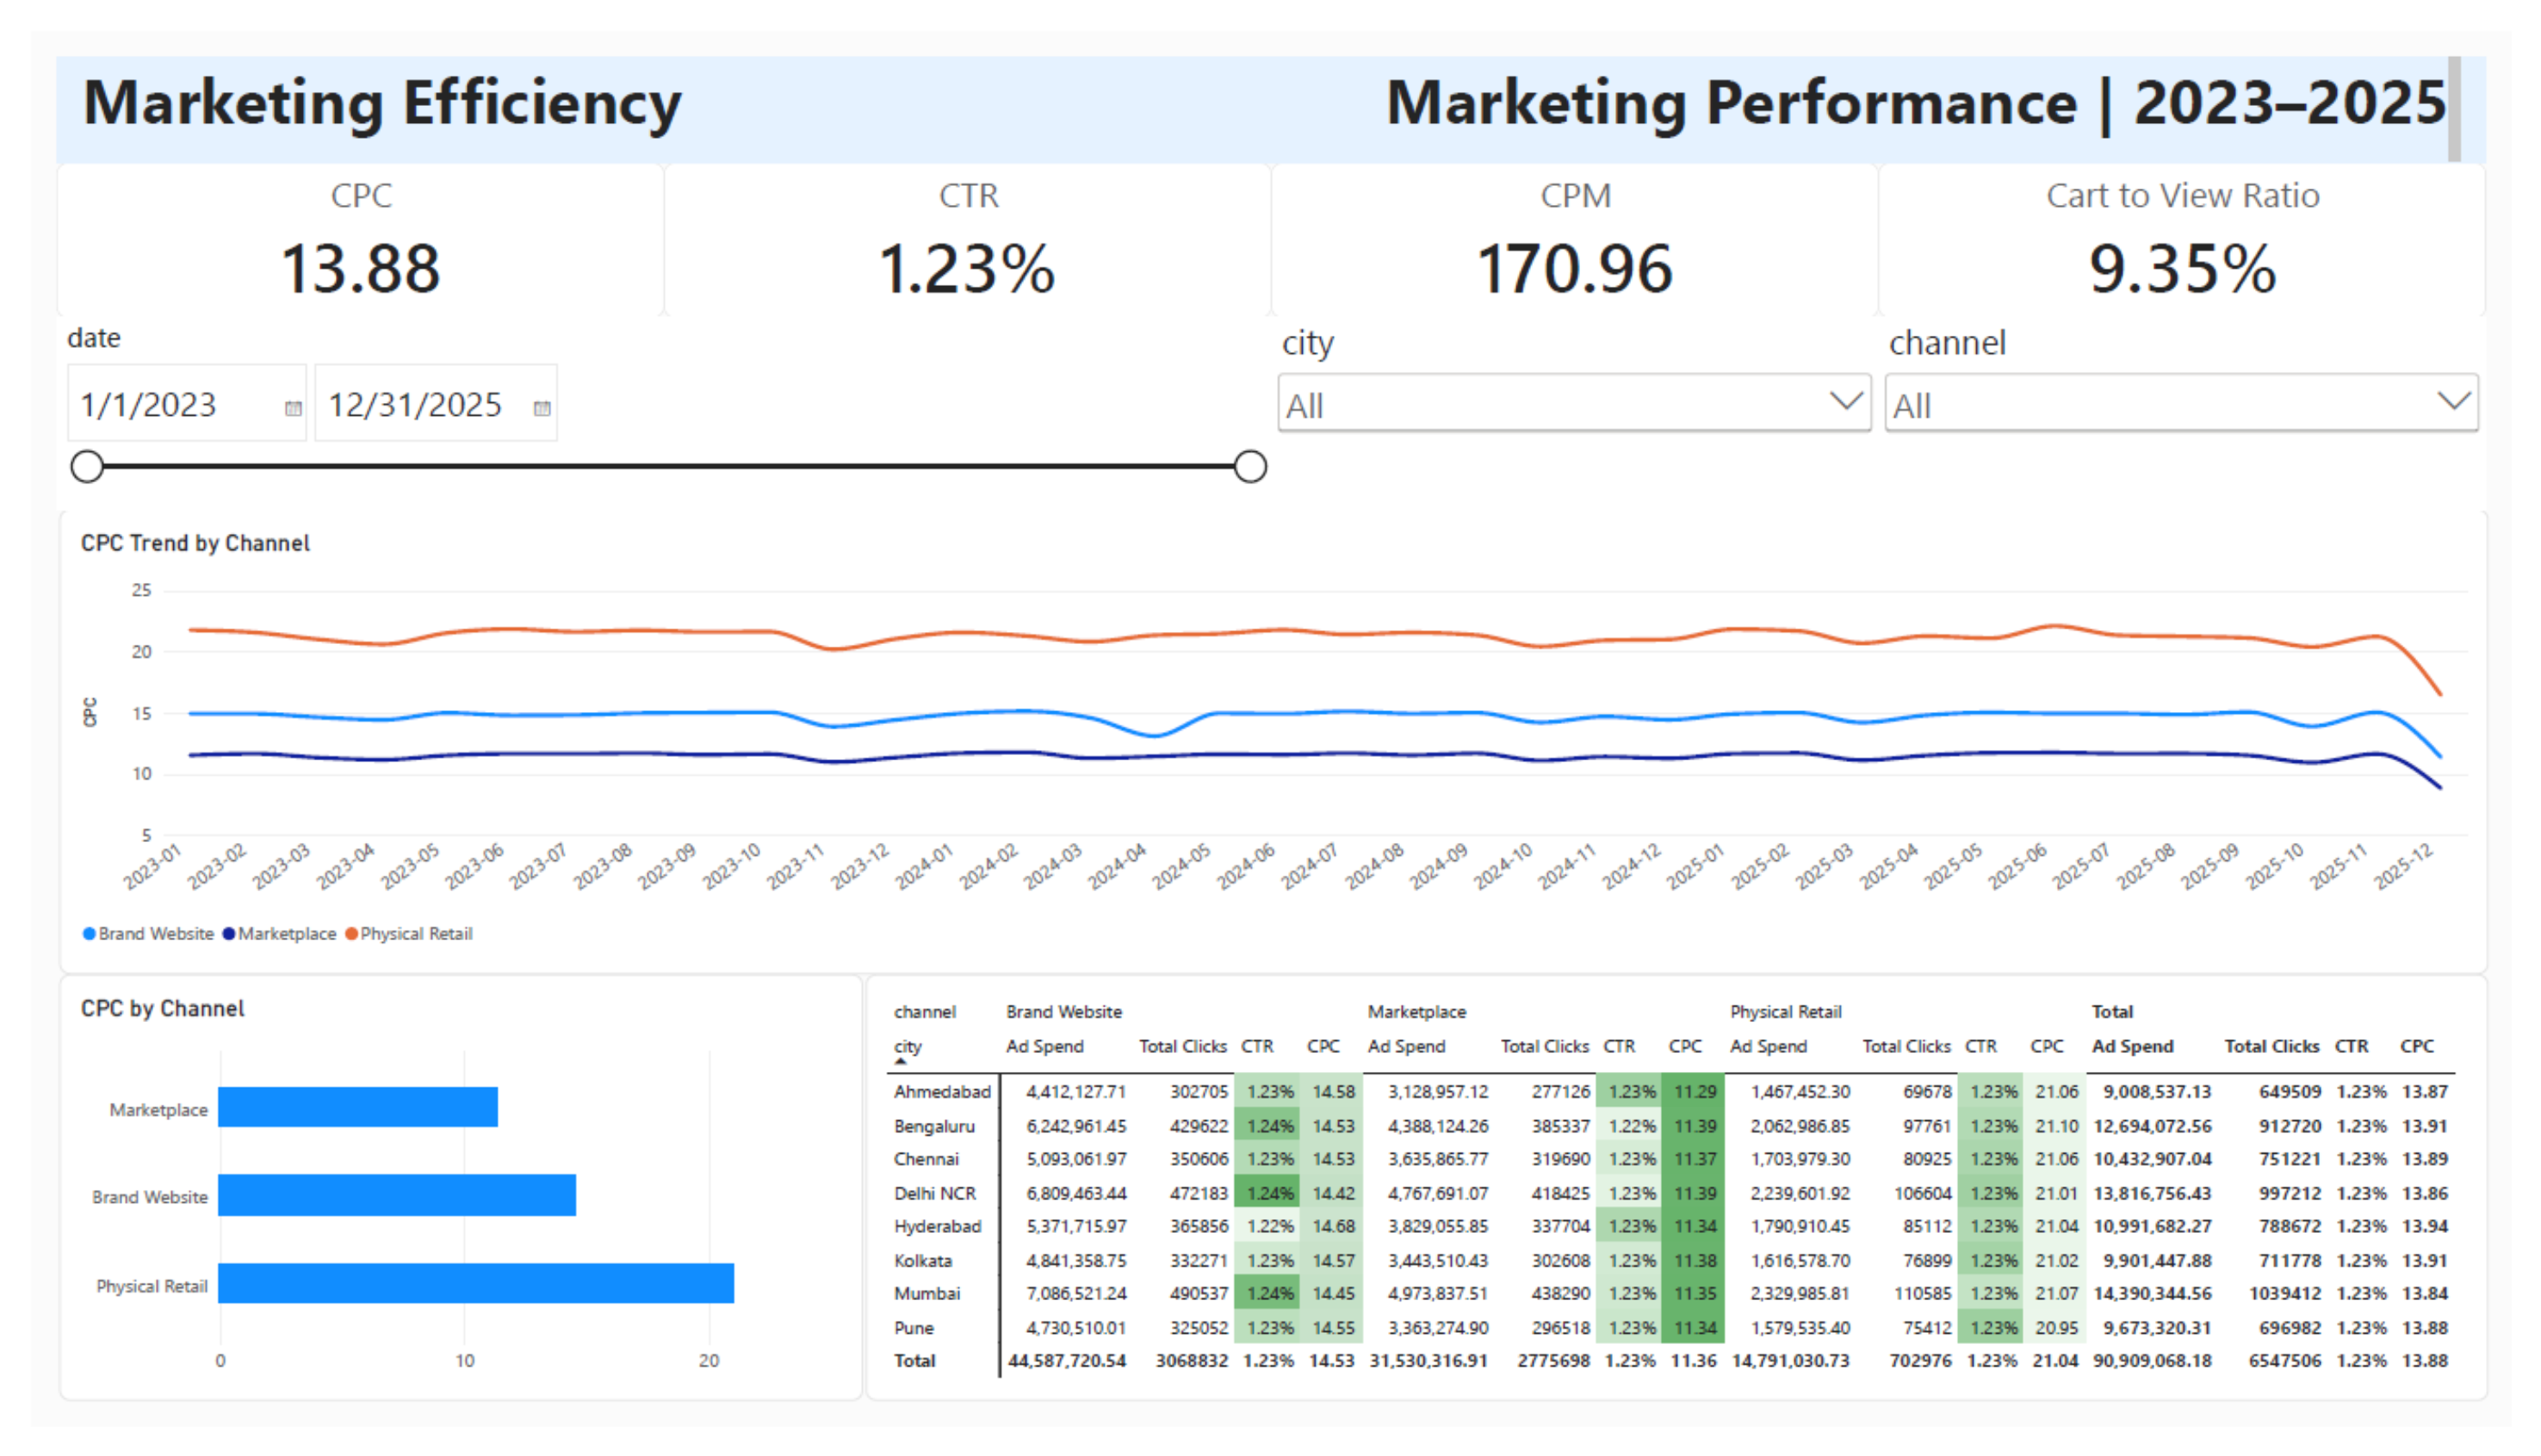

What the dashboard file says about the page in this screenshot:
{"tool":"powerbi","page":{"name":"Marketing Efficiency","canvas":[1920,1080],"ordinal":1},"visuals":[{"type":"cardVisual","fields":{"Data":["FactPerformance.CTR"]},"box":[490,102,470,120],"z":0},{"type":"cardVisual","fields":{"Data":["FactPerformance.CPC"]},"box":[20,102,470,120],"z":1000},{"type":"cardVisual","fields":{"Data":["FactPerformance.CPM"]},"box":[960,102,470,120],"z":2000},{"type":"cardVisual","fields":{"Data":["FactPerformance.Cart to View Ratio"]},"box":[1430,102,470,120],"z":3000},{"type":"pivotTable","fields":{"Columns":["DimChannel.channel"],"Rows":["DimCity.city"],"Values":["FactPerformance.Ad Spend","FactPerformance.Total Clicks","FactPerformance.CTR","FactPerformance.CPC"]},"box":[646,730,1256,330],"z":4000},{"type":"clusteredBarChart","title":"CPC by Channel","fields":{"Category":["DimChannel.channel"],"Y":["FactPerformance.CPC"]},"box":[22,730,622,330],"z":5000},{"type":"lineChart","title":"CPC Trend by Channel","fields":{"Category":["DimDate.YearMonth"],"Series":["DimChannel.channel"],"Y":["FactPerformance.CPC"]},"box":[22,370,1880,360],"z":6000},{"type":"slicer","fields":{"Values":["DimDate.date"]},"box":[20,222,940,148],"z":7000},{"type":"slicer","fields":{"Values":["DimCity.city"]},"box":[960,222,470,148],"z":8000},{"type":"slicer","fields":{"Values":["DimChannel.channel"]},"box":[1430,222,470,148],"z":9000},{"type":"textbox","box":[20,20,940,82],"z":10000},{"type":"textbox","box":[960,20,940,82],"z":11000}]}

Visuals, with their boxes in screenshot pixels (x1, y1, x2, y2), scaled from the page's 1920x1080 canvas onto the 2541x1456 screenshot:
cardVisual - FactPerformance.CTR: x1=648, y1=138, x2=1271, y2=300
cardVisual - FactPerformance.CPC: x1=27, y1=138, x2=648, y2=300
cardVisual - FactPerformance.CPM: x1=1271, y1=138, x2=1893, y2=300
cardVisual - FactPerformance.Cart to View Ratio: x1=1893, y1=138, x2=2514, y2=300
pivotTable - DimChannel.channel x DimCity.city: x1=855, y1=984, x2=2517, y2=1429
"CPC by Channel" clusteredBarChart: x1=29, y1=984, x2=852, y2=1429
"CPC Trend by Channel" lineChart: x1=29, y1=499, x2=2517, y2=984
slicer - DimDate.date: x1=27, y1=300, x2=1271, y2=499
slicer - DimCity.city: x1=1271, y1=300, x2=1893, y2=499
slicer - DimChannel.channel: x1=1893, y1=300, x2=2514, y2=499
textbox: x1=27, y1=27, x2=1271, y2=138
textbox: x1=1271, y1=27, x2=2514, y2=138
